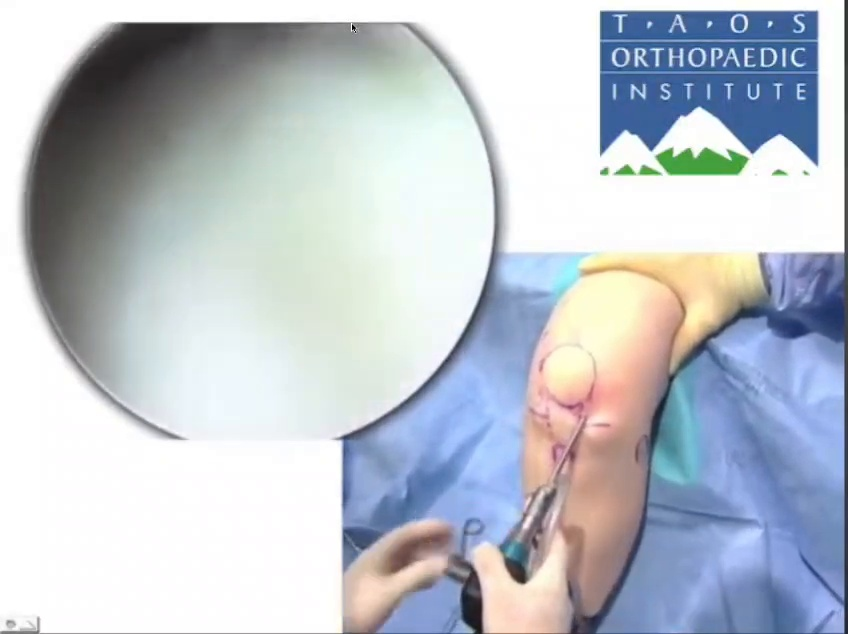arthroscope: (778, 328, 848, 634)
